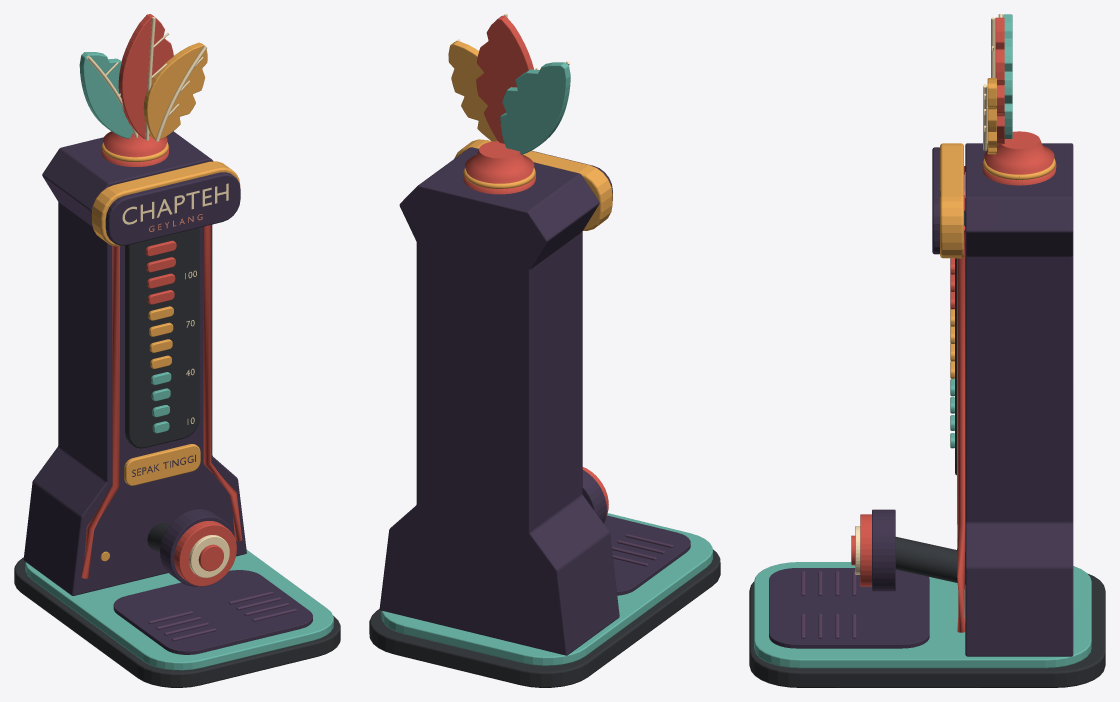
3 views of the same model, side by side, from view 1: azimuth 30°, elevation 25°; view 2: azimuth 150°, elevation 25°; view 3: azimuth 270°, elevation 25° (orthographic). The views are drawn at different scales.
Parts seen in each view (by area): view 1: Sepak Tinggi | Chapteh kick meter - Tower, Sepak Tinggi | Chapteh kick meter - Graphics, Sepak Tinggi | Chapteh kick meter - Cabinetry, Sepak Tinggi | Chapteh kick meter - Crest, Sepak Tinggi | Chapteh kick meter - Pedal, Sepak Tinggi | Chapteh kick meter - Turned fittings; view 2: Sepak Tinggi | Chapteh kick meter - Tower, Sepak Tinggi | Chapteh kick meter - Cabinetry, Sepak Tinggi | Chapteh kick meter - Crest, Sepak Tinggi | Chapteh kick meter - Turned fittings, Sepak Tinggi | Chapteh kick meter - Graphics, Sepak Tinggi | Chapteh kick meter - Pedal; view 3: Sepak Tinggi | Chapteh kick meter - Tower, Sepak Tinggi | Chapteh kick meter - Cabinetry, Sepak Tinggi | Chapteh kick meter - Graphics, Sepak Tinggi | Chapteh kick meter - Pedal, Sepak Tinggi | Chapteh kick meter - Turned fittings, Sepak Tinggi | Chapteh kick meter - Crest, Sepak Tinggi | Chapteh kick meter - Metalwork.
Boxes of the visible parts, left/top/right/bottom form: Sepak Tinggi | Chapteh kick meter - Tower: left=23, top=131, right=246, bottom=595; Sepak Tinggi | Chapteh kick meter - Graphics: left=81, top=17, right=242, bottom=578; Sepak Tinggi | Chapteh kick meter - Cabinetry: left=14, top=550, right=340, bottom=687; Sepak Tinggi | Chapteh kick meter - Crest: left=79, top=14, right=207, bottom=139; Sepak Tinggi | Chapteh kick meter - Pedal: left=148, top=509, right=296, bottom=641; Sepak Tinggi | Chapteh kick meter - Turned fittings: left=101, top=131, right=169, bottom=166; Sepak Tinggi | Chapteh kick meter - Tower: left=379, top=147, right=619, bottom=655; Sepak Tinggi | Chapteh kick meter - Cabinetry: left=369, top=513, right=720, bottom=687; Sepak Tinggi | Chapteh kick meter - Crest: left=448, top=15, right=570, bottom=154; Sepak Tinggi | Chapteh kick meter - Turned fittings: left=463, top=141, right=535, bottom=194; Sepak Tinggi | Chapteh kick meter - Graphics: left=454, top=14, right=612, bottom=230; Sepak Tinggi | Chapteh kick meter - Pedal: left=582, top=467, right=673, bottom=566; Sepak Tinggi | Chapteh kick meter - Tower: left=965, top=143, right=1073, bottom=656; Sepak Tinggi | Chapteh kick meter - Cabinetry: left=749, top=562, right=1105, bottom=687; Sepak Tinggi | Chapteh kick meter - Graphics: left=932, top=14, right=1002, bottom=632; Sepak Tinggi | Chapteh kick meter - Pedal: left=801, top=509, right=895, bottom=638; Sepak Tinggi | Chapteh kick meter - Turned fittings: left=982, top=131, right=1056, bottom=185; Sepak Tinggi | Chapteh kick meter - Crest: left=987, top=14, right=1012, bottom=154; Sepak Tinggi | Chapteh kick meter - Metalwork: left=895, top=537, right=957, bottom=582.
Size of the model in its own units: 1.08 by 2.99 by 1.55.
